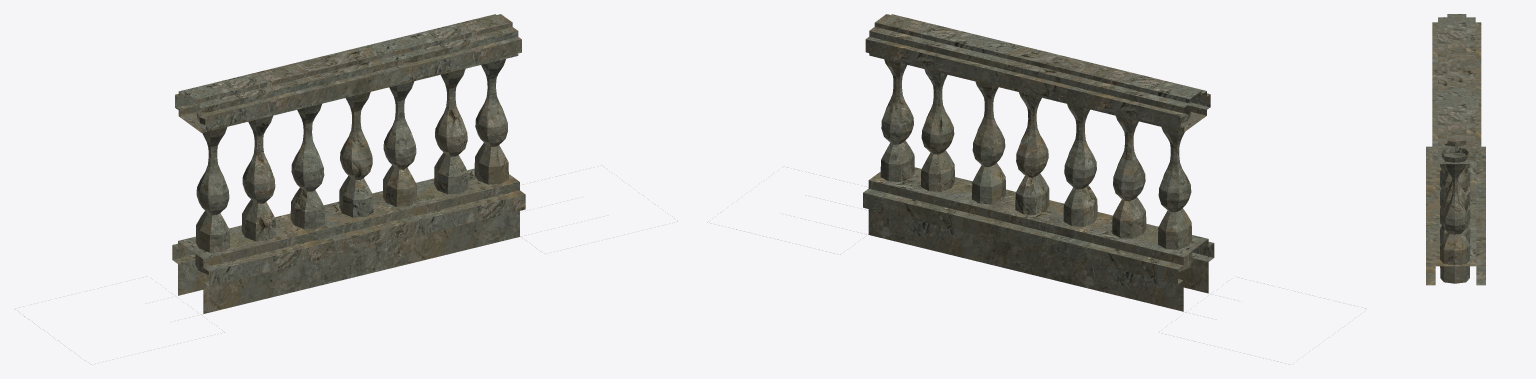
The model's file is MidFence.fbx.
3 views of the same model, side by side, from view 1: azimuth 30°, elevation 25°; view 2: azimuth 150°, elevation 25°; view 3: azimuth 270°, elevation 25° (orthographic). The views are drawn at different scales.
Visible parts, largest first — view 1: fence2; view 2: fence2; view 3: fence2.
Part boxes in pixels (left/top/right/bottom): fence2: left=24, top=14, right=677, bottom=364; fence2: left=707, top=14, right=1277, bottom=361; fence2: left=1426, top=14, right=1485, bottom=285.
Size of the model in its own units: 4.53 by 1.54 by 1.02.
1 material, 1 textured.
